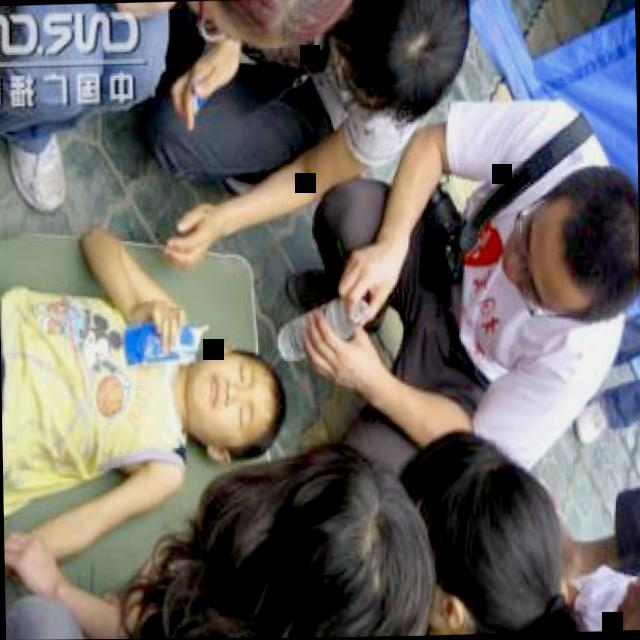Fall-Detected: (0, 192, 289, 640)
